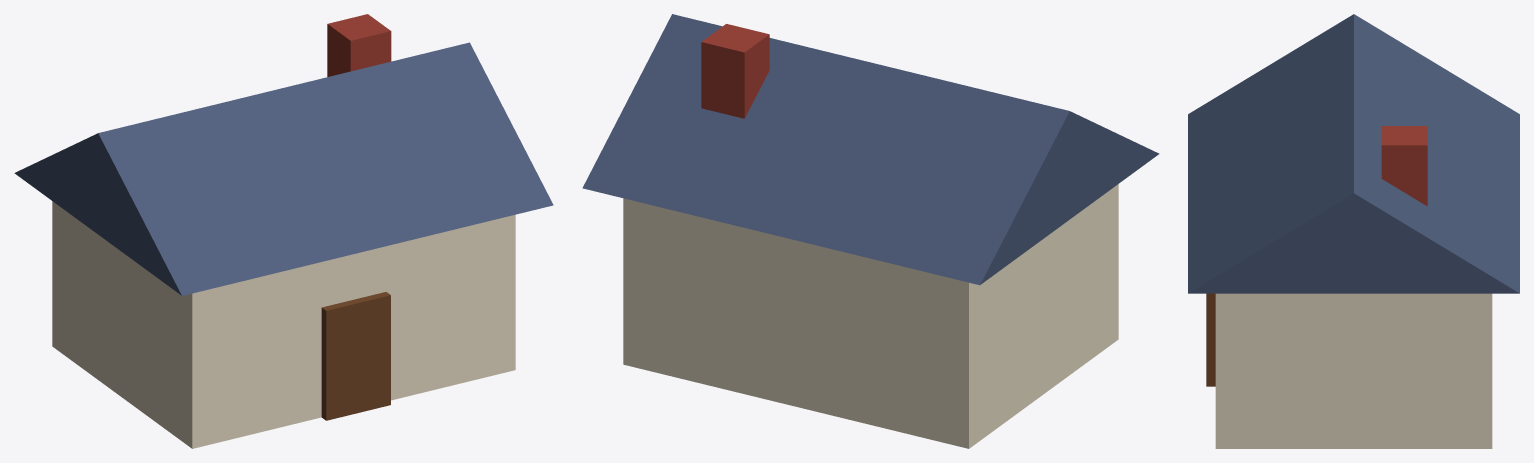
The model's file is cottage.obj.
3 views of the same model, side by side, from view 1: azimuth 30°, elevation 25°; view 2: azimuth 150°, elevation 25°; view 3: azimuth 270°, elevation 25° (orthographic). The views are drawn at different scales.
Visible parts, largest first — view 1: roof, walls, door, chimney; view 2: roof, walls, chimney; view 3: roof, walls, chimney, door.
Part boxes in pixels (x1=…): roof: x1=14, y1=42, x2=553, y2=295; walls: x1=52, y1=201, x2=515, y2=448; door: x1=321, y1=292, x2=390, y2=420; chimney: x1=327, y1=14, x2=391, y2=76; roof: x1=582, y1=14, x2=1159, y2=285; walls: x1=623, y1=184, x2=1118, y2=448; chimney: x1=701, y1=24, x2=769, y2=118; roof: x1=1188, y1=14, x2=1519, y2=293; walls: x1=1215, y1=293, x2=1492, y2=448; chimney: x1=1381, y1=126, x2=1427, y2=206; door: x1=1206, y1=293, x2=1215, y2=386.
Bounding box in the file's own units: 4.6 × 3.4 × 3.6.
